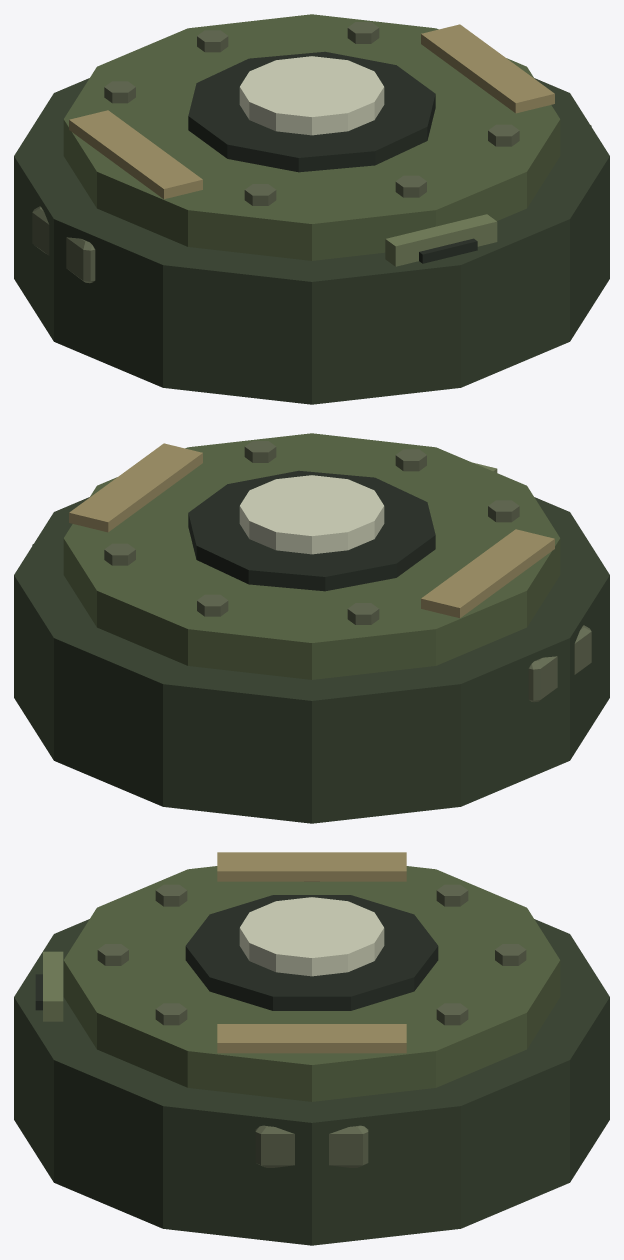
Rendered from mine.obj.
3 views of the same model, one above another, from view 1: azimuth 30°, elevation 25°; view 2: azimuth 150°, elevation 25°; view 3: azimuth 270°, elevation 25° (orthographic).
Parts seen in each view (by area): view 1: MineBody, MineSignal; view 2: MineBody, MineSignal; view 3: MineBody, MineSignal.
Boxes of the visible parts, box(x1,y1,x2,y2) form: MineBody: box(14, 14, 609, 404); MineSignal: box(239, 56, 384, 135); MineBody: box(14, 433, 609, 823); MineSignal: box(239, 475, 384, 554); MineBody: box(14, 852, 609, 1245); MineSignal: box(239, 897, 384, 976).
Size of the model in its own units: 1.32 by 0.4695 by 1.32.
1 material, 1 textured.
